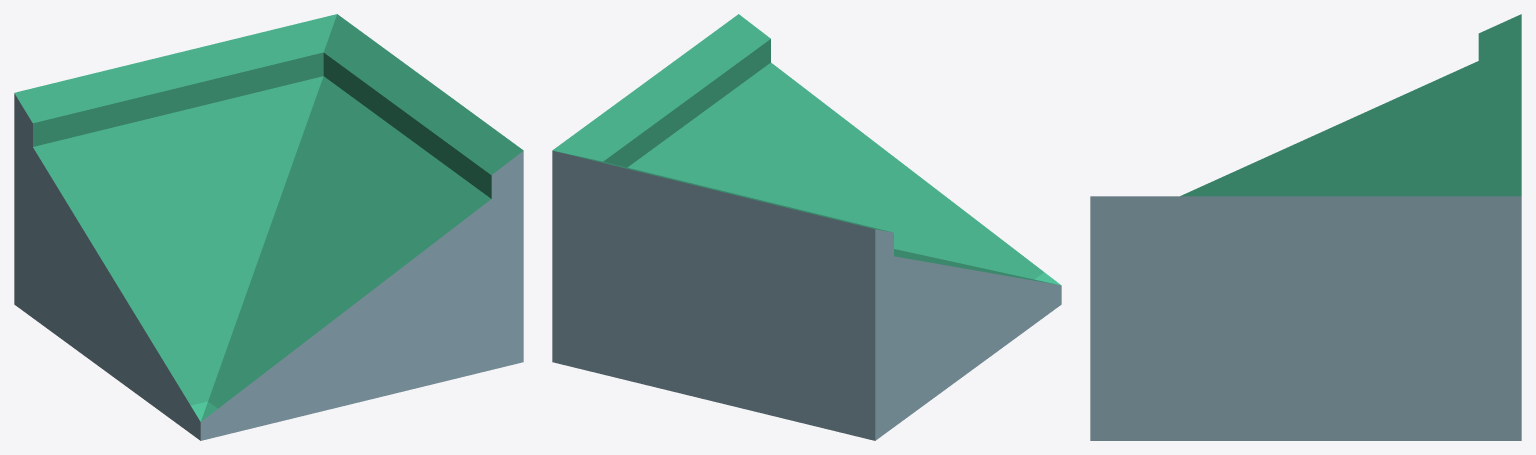
File: roofCornerInner.fbx
3 views of the same model, side by side, from view 1: azimuth 30°, elevation 25°; view 2: azimuth 150°, elevation 25°; view 3: azimuth 270°, elevation 25° (orthographic). The views are drawn at different scales.
Visible parts, largest first — view 1: roofCornerInner; view 2: roofCornerInner; view 3: roofCornerInner.
Boxes of the visible parts, x1,y1,x2,y2 form: roofCornerInner: (14,14,523,440); roofCornerInner: (552,14,1061,440); roofCornerInner: (1090,14,1521,440).
Size of the model in its own units: 10 by 6.26 by 10.
